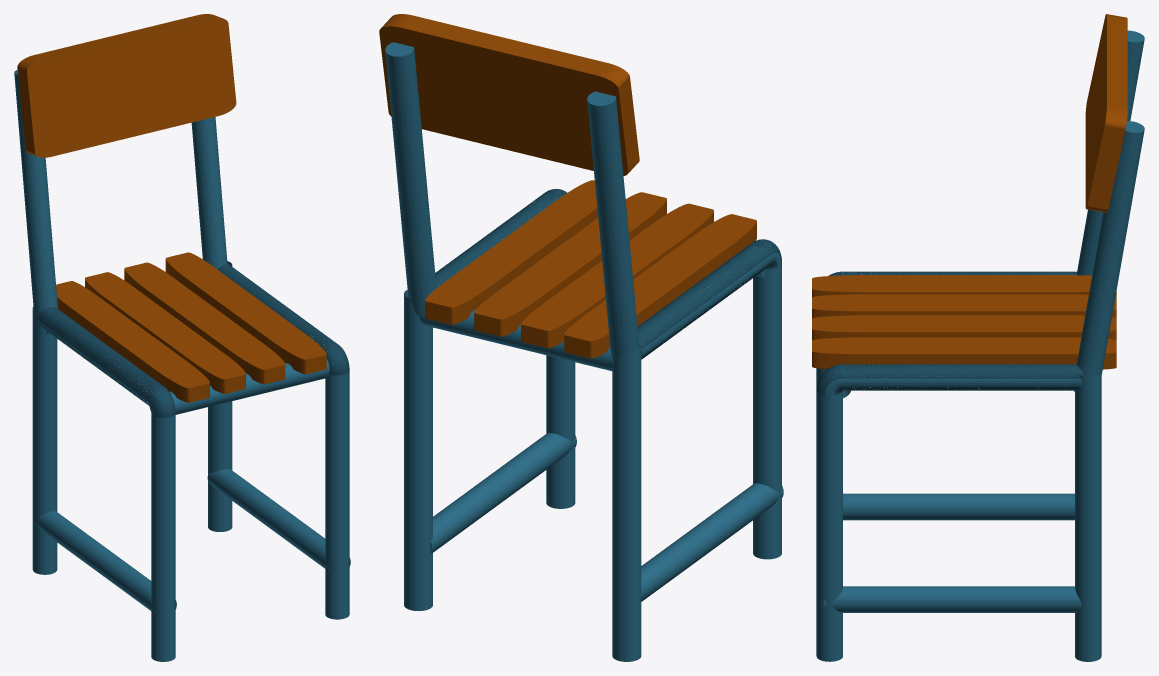
The model's file is chair.fbx.
3 views of the same model, side by side, from view 1: azimuth 30°, elevation 25°; view 2: azimuth 150°, elevation 25°; view 3: azimuth 270°, elevation 25° (orthographic). The views are drawn at different scales.
Parts seen in each view (by area): view 1: Cube.004, Cylinder.003, Cylinder, Cube, Cube.003, Cylinder.002, Cube.002, Cube.001, Cylinder.009, Cylinder.008, Cylinder.001, Cylinder.005 (+2 smaller); view 2: Cube.004, Cylinder.003, Cylinder.002, Cylinder.006, Cube.003, Cylinder.009, Cylinder.008, Cube, Cube.002, Cube.001, Cylinder, Cylinder.001 (+2 smaller); view 3: Cylinder, Cube.003, Cylinder.006, Cube.004, Cylinder.001, Cylinder.005, Cube.002, Cylinder.008, Cube.001, Cube, Cylinder.009, Cylinder.003.
Part boxes in pixels (x1,y1,x2,y2): Cube.004: (17, 14, 236, 157); Cylinder.003: (36, 307, 175, 661); Cylinder: (217, 263, 349, 619); Cube: (56, 281, 209, 402); Cube.003: (165, 252, 326, 374); Cylinder.002: (32, 307, 57, 574); Cube.002: (124, 262, 285, 384); Cube.001: (85, 272, 245, 393); Cylinder.009: (14, 70, 57, 320); Cylinder.008: (191, 117, 227, 268); Cylinder.001: (207, 469, 350, 571); Cylinder.005: (33, 511, 176, 613); Cube.004: (379, 14, 639, 175); Cylinder.003: (637, 239, 781, 559); Cylinder.002: (612, 345, 641, 661); Cylinder.006: (404, 290, 432, 610); Cube.003: (425, 180, 598, 324); Cylinder.009: (587, 91, 639, 361); Cylinder.008: (385, 42, 436, 315); Cube: (564, 214, 756, 358); Cube.002: (474, 192, 666, 336); Cube.001: (521, 203, 713, 348); Cylinder: (435, 189, 575, 508); Cylinder.001: (430, 432, 576, 553); Cylinder: (816, 364, 1083, 661); Cube.003: (812, 337, 1116, 369); Cylinder.006: (1075, 371, 1101, 661); Cube.004: (1085, 14, 1127, 212); Cylinder.001: (823, 586, 1081, 612); Cylinder.005: (843, 493, 1074, 520); Cube.002: (812, 315, 1116, 340); Cylinder.008: (1077, 121, 1144, 376); Cube.001: (812, 294, 1116, 318); Cube: (812, 275, 1116, 297); Cylinder.009: (1077, 30, 1144, 275); Cylinder.003: (816, 271, 1076, 388).
Bounding box in the file's own units: 818 × 1950 × 1070.
